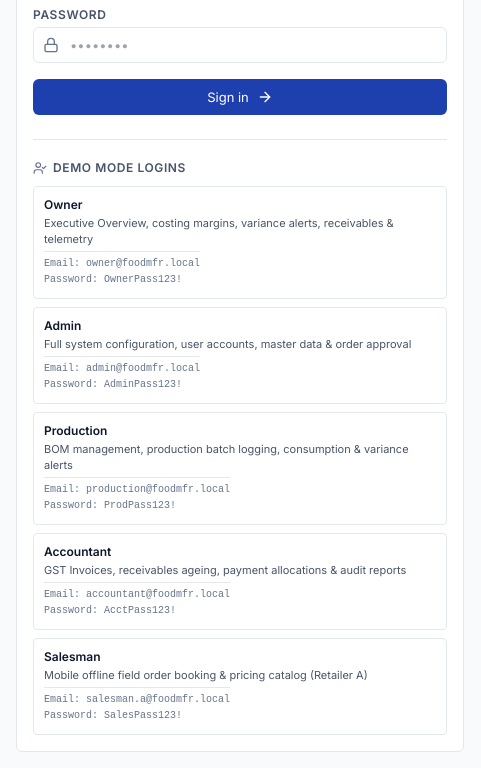
Test: Part 2: Demo Logins & Role Views › clicking a demo role fills the email and password form fields
The width and height of the screenshot is (481, 768).
Later steps or results of the test are not shown.
(page scrolled)
Note: Click Accountant role
Step 1. Click the button with test id "demo-role-accountant" → x=78, y=552, box [33,533,447,630]
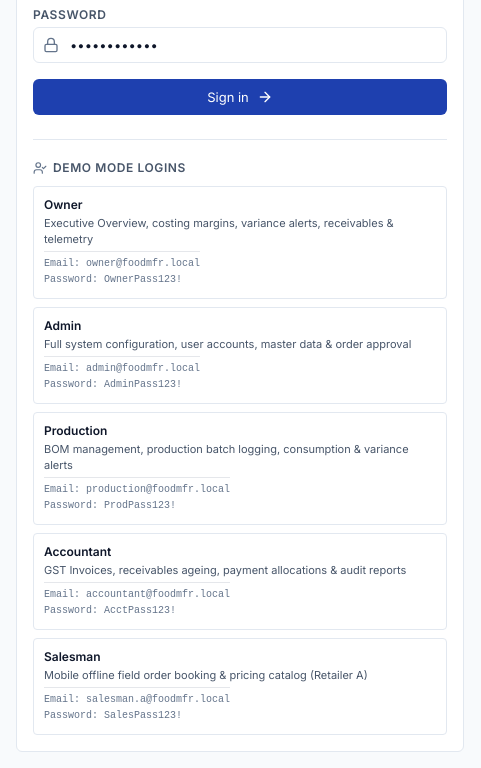
Check: the password field with placeholder "••••••••" holds "AcctPass123!", box [33,27,447,63]
